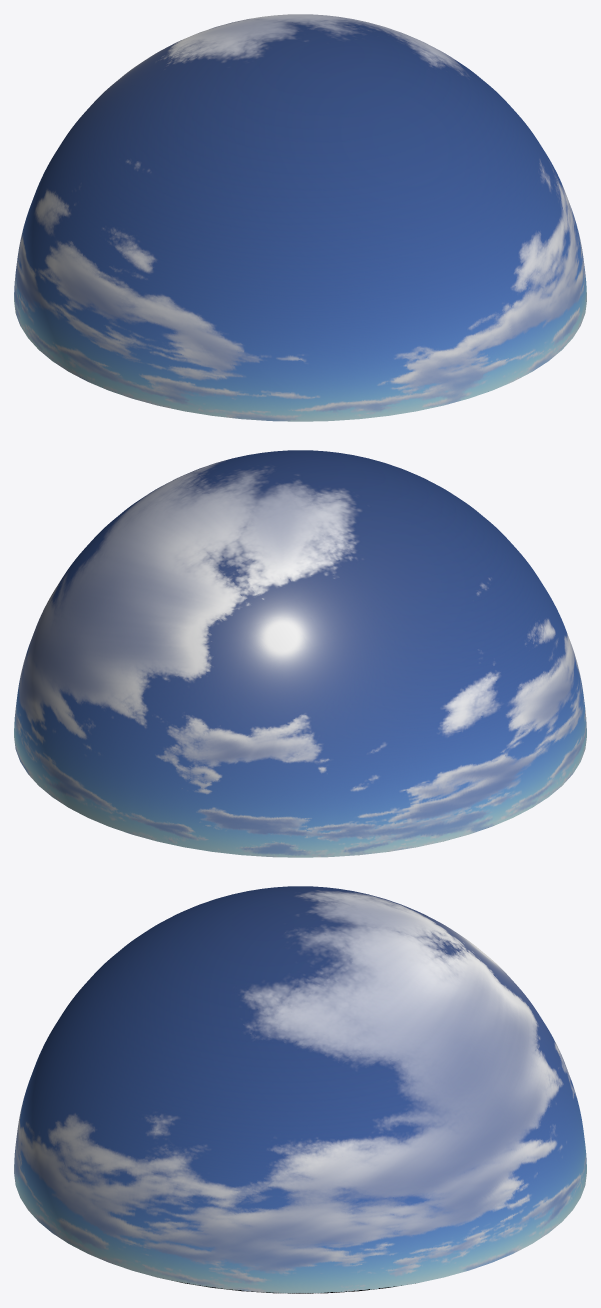
File: skydome.fbx
3 views of the same model, one above another, from view 1: azimuth 30°, elevation 25°; view 2: azimuth 150°, elevation 25°; view 3: azimuth 270°, elevation 25° (orthographic).
Parts seen in each view (by area): view 1: Sphere; view 2: Sphere; view 3: Sphere.
Boxes of the visible parts, x1,y1,x2,y2 form: Sphere: (14,14,586,421); Sphere: (14,450,586,857); Sphere: (14,886,586,1293).
Bounding box in the file's own units: 724 × 362 × 724.
Materials: 1 (1 with a texture image).
